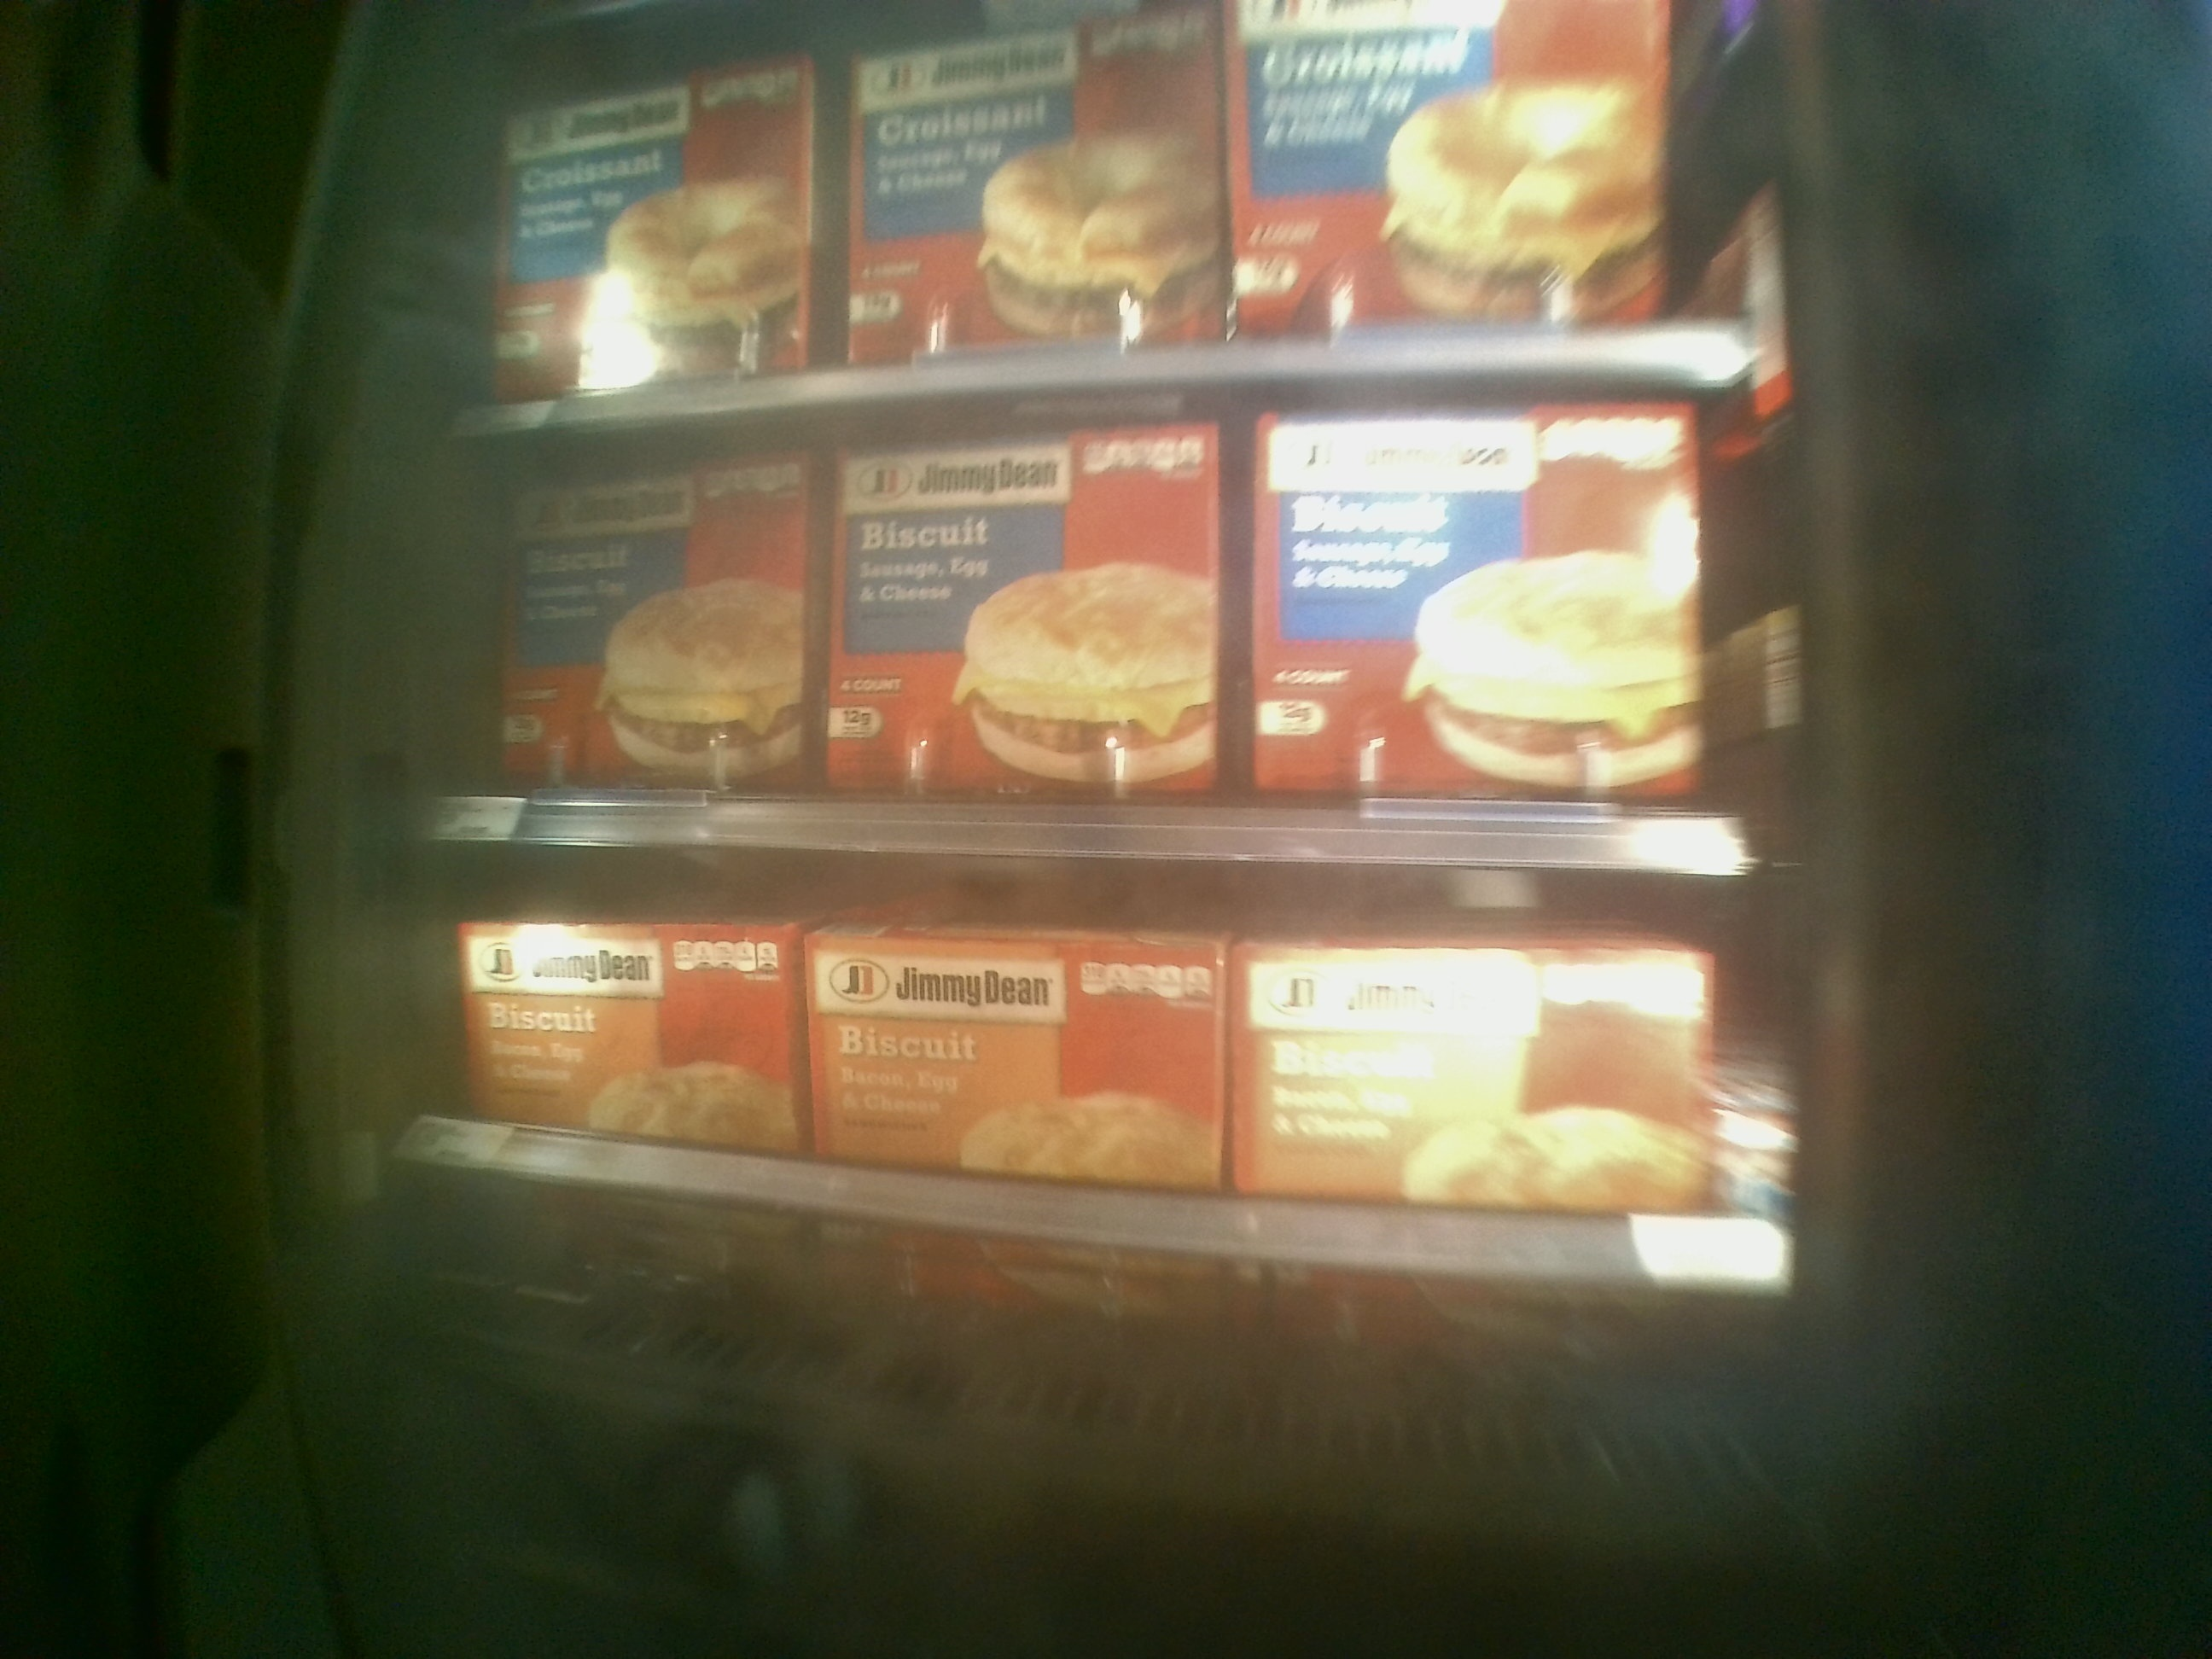shelf: (406, 849, 1806, 1394), (441, 368, 1792, 871)
